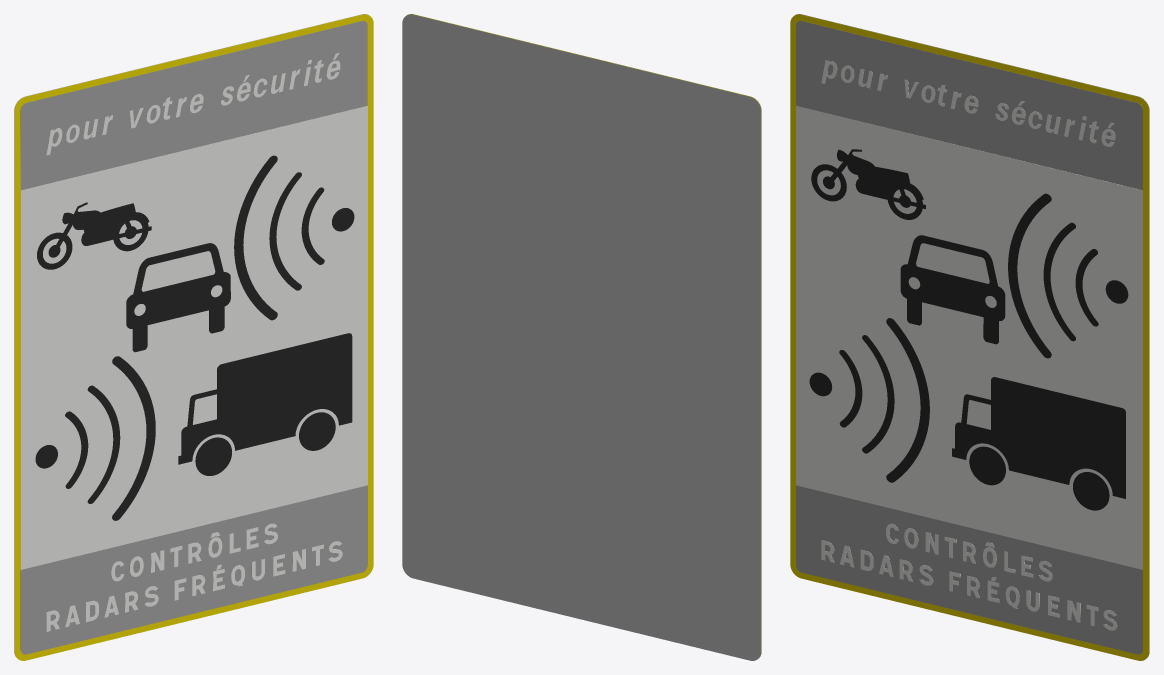
3 renders of one model, left to right at view 1: azimuth 30°, elevation 25°; view 2: azimuth 150°, elevation 25°; view 3: azimuth 330°, elevation 25°, orthographic.
Parts seen in each view (by area): view 1: SR3b_p02, SR3b_p01, SR3b_p07, SR3b_p00, SR3b_p05, SR3b_p04, SR3b_p06, SR3b_p03, SR3b_dos; view 2: SR3b_dos, SR3b_p00; view 3: SR3b_p02, SR3b_p01, SR3b_p07, SR3b_p00, SR3b_p05, SR3b_p04, SR3b_p06, SR3b_p03, SR3b_dos.
Part boxes in pixels (x1,y1,x2,y2): SR3b_p02: (21,106,367,569); SR3b_p01: (20,21,367,654); SR3b_p07: (178,155,354,475); SR3b_p00: (14,14,373,660); SR3b_p05: (37,202,230,503); SR3b_p04: (46,523,342,631); SR3b_p06: (35,172,301,520); SR3b_p03: (46,53,340,155); SR3b_dos: (14,14,367,656); SR3b_dos: (402,14,761,660); SR3b_p00: (408,14,761,656); SR3b_p02: (796,106,1142,569); SR3b_p01: (796,21,1142,654); SR3b_p07: (952,193,1128,510); SR3b_p00: (790,14,1149,660); SR3b_p05: (811,149,1005,453); SR3b_p04: (821,523,1117,630); SR3b_p06: (809,222,1075,482); SR3b_p03: (821,60,1115,146); SR3b_dos: (796,14,1149,656).
Size of the model in its own units: 0.7 by 1.05 by 0.0047.
